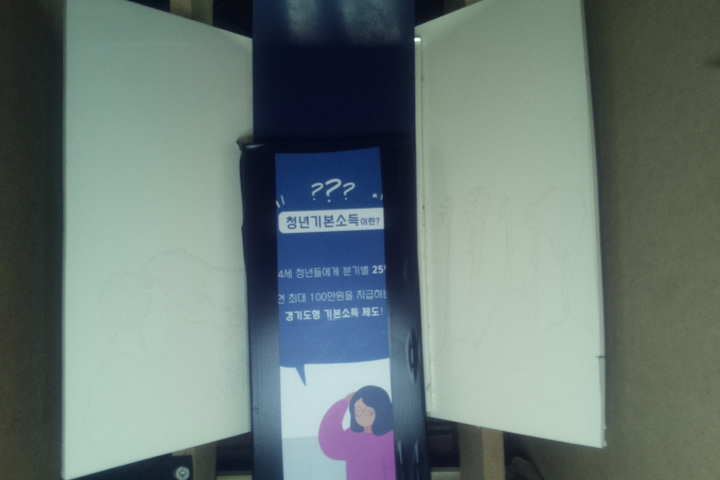book: (241, 135, 433, 480)
